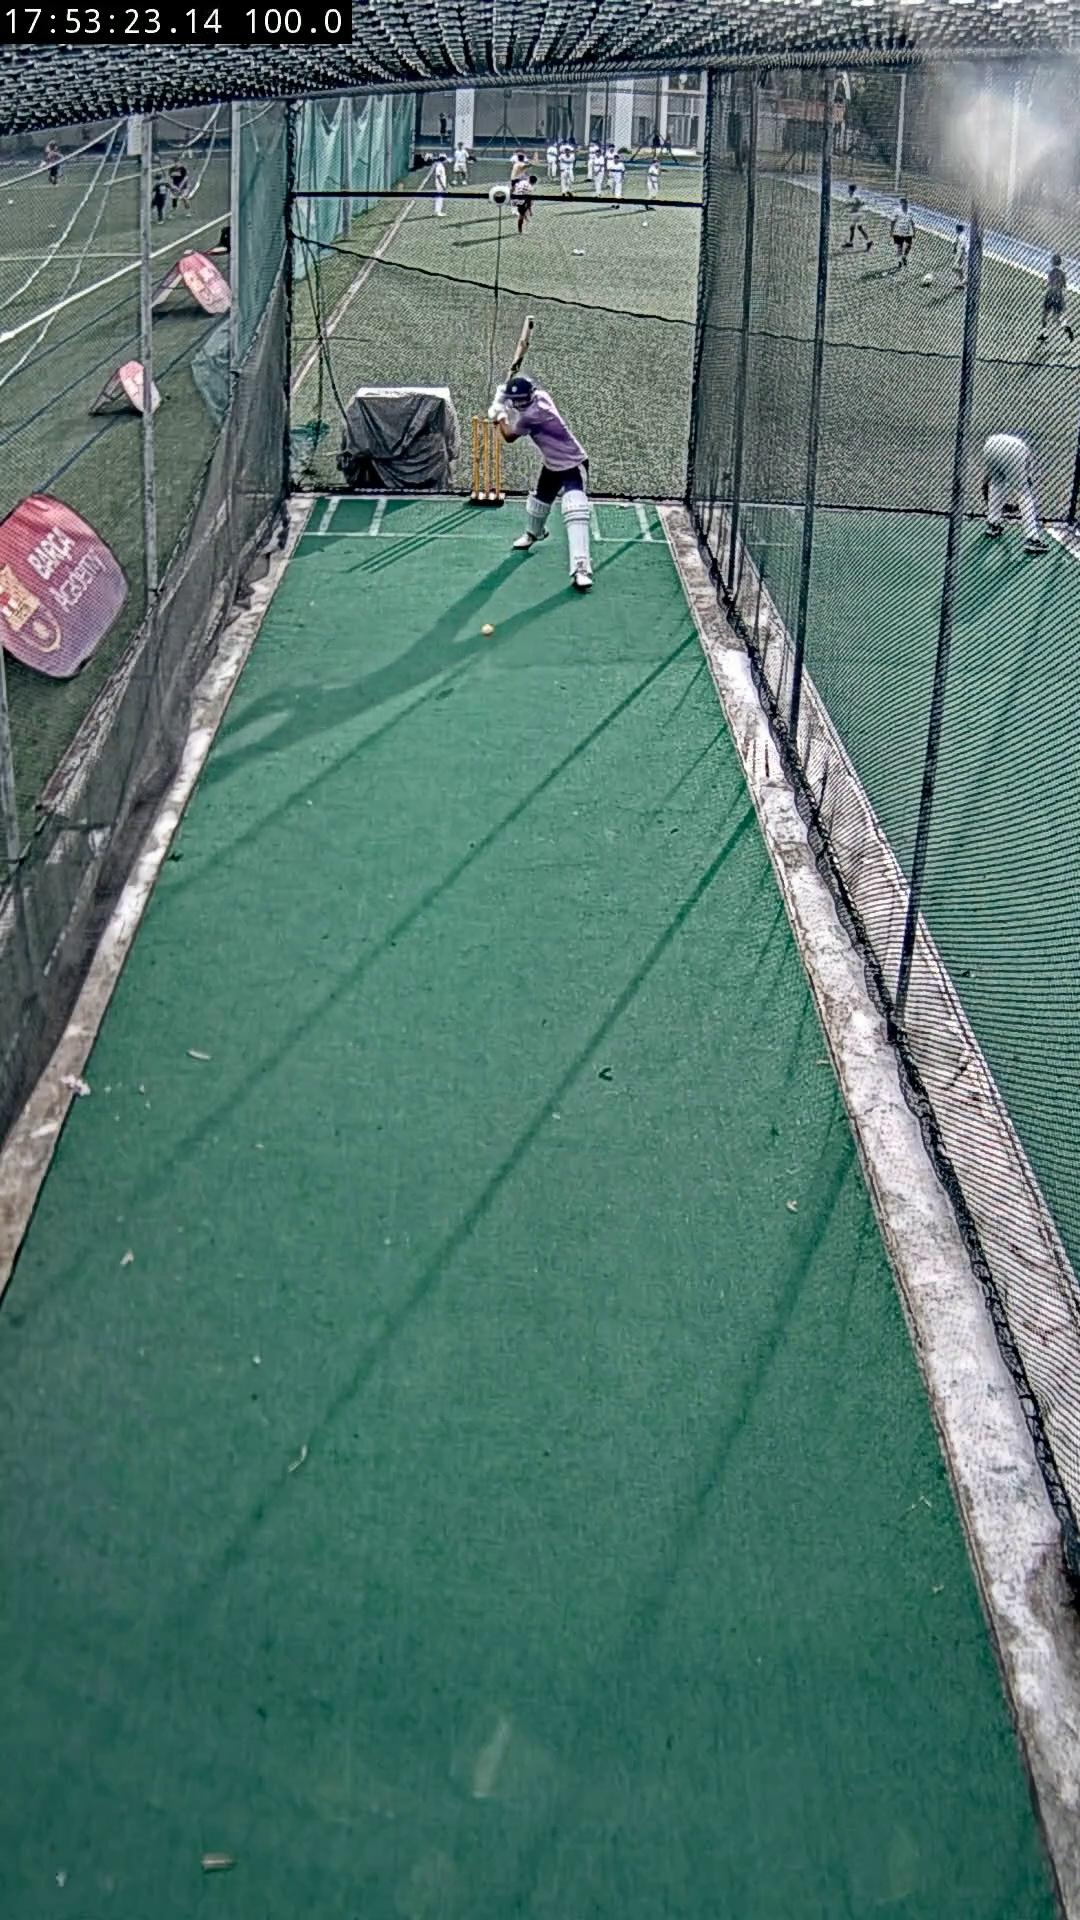ball: (480, 622, 495, 637)
bat: (510, 315, 533, 373)
gloves: (484, 382, 514, 419)
helmet: (502, 375, 537, 409)
pads: (559, 492, 592, 572), (525, 495, 551, 537)
stumps: (468, 417, 506, 506)
